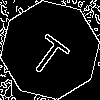T: (25, 25, 77, 80)
